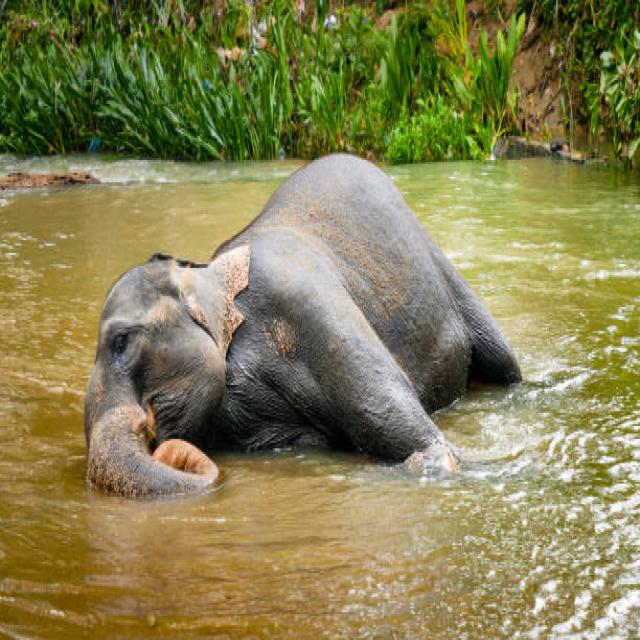Elephant: (78, 140, 524, 507)
